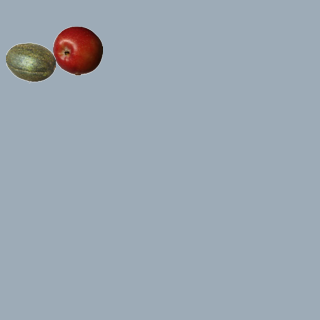Apple Braeburn: (52, 25, 102, 75)
Melon Piel de Sapo: (5, 37, 55, 87)
